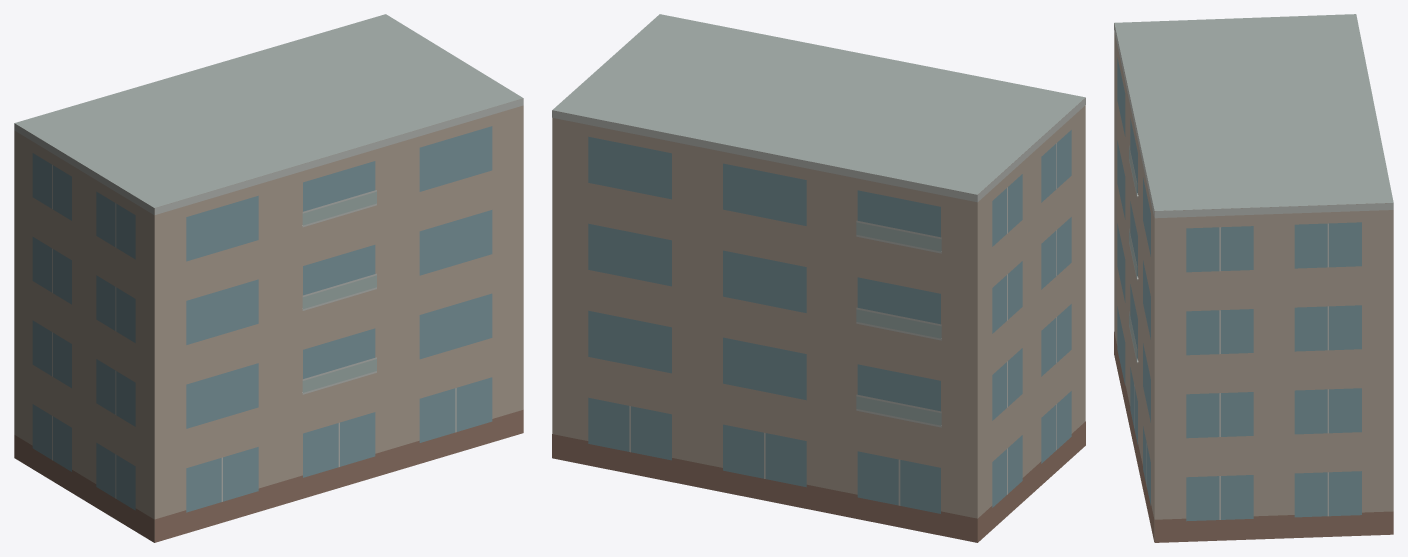
The model's file is survey-upis-32822487.glb.
3 views of the same model, side by side, from view 1: azimuth 30°, elevation 25°; view 2: azimuth 150°, elevation 25°; view 3: azimuth 270°, elevation 25° (orthographic). The views are drawn at different scales.
Visible parts, largest first — view 1: survey-upis-32822487.tmp; view 2: survey-upis-32822487.tmp; view 3: survey-upis-32822487.tmp.
Part boxes in pixels (x1,y1,x2,y2): survey-upis-32822487.tmp: (14,14,523,542); survey-upis-32822487.tmp: (552,14,1085,542); survey-upis-32822487.tmp: (1114,14,1393,542).
Size of the model in its own units: 14.41 by 11.3 by 8.64.
